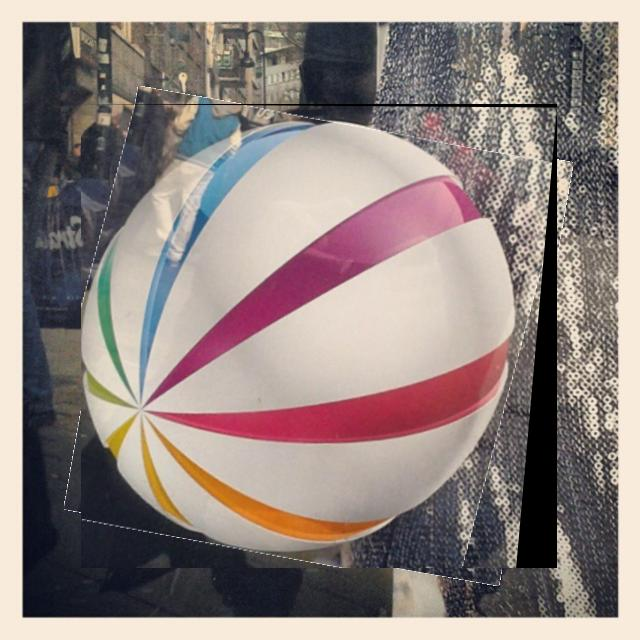Football: (81, 104, 557, 568)
